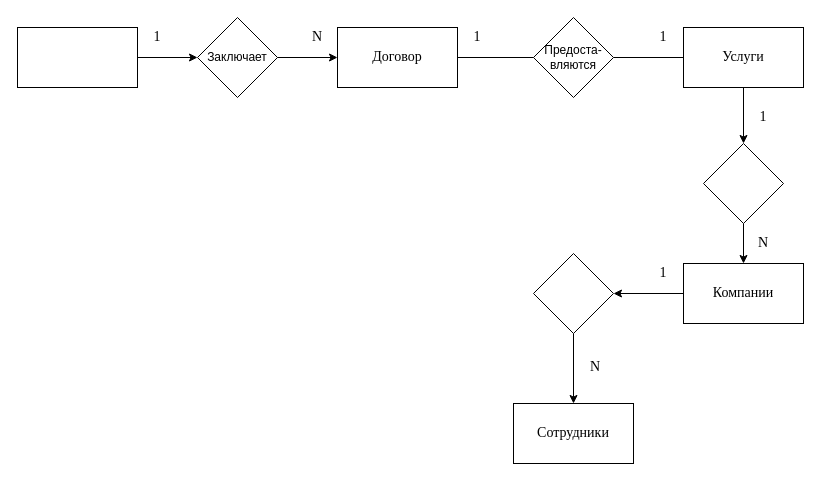
This 821x481 diagram has some shape labels left out. Each missing label, with the box of its shape:
Заказчик: (16, 26, 138, 88)
Имеют: (532, 252, 614, 334)
Относятся: (702, 142, 784, 224)
